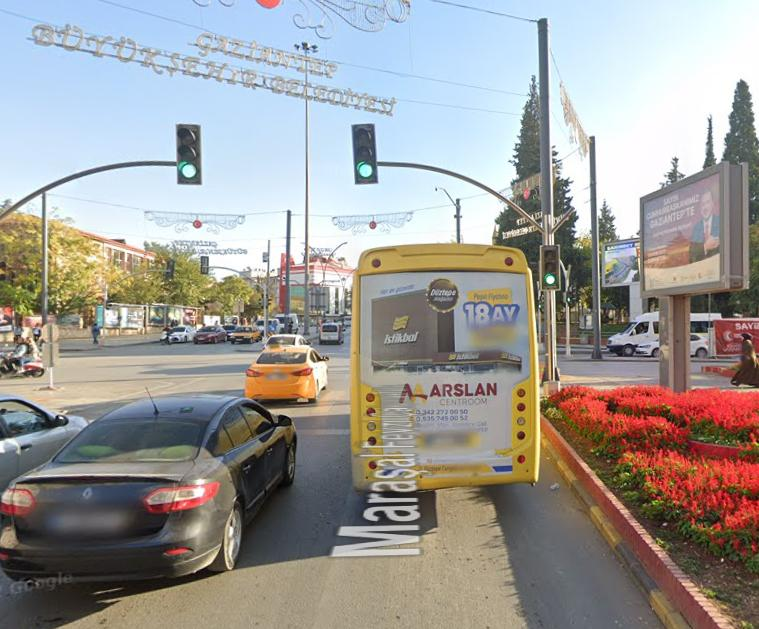greenlight: (352, 123, 377, 185), (175, 122, 200, 183), (541, 246, 558, 292)
